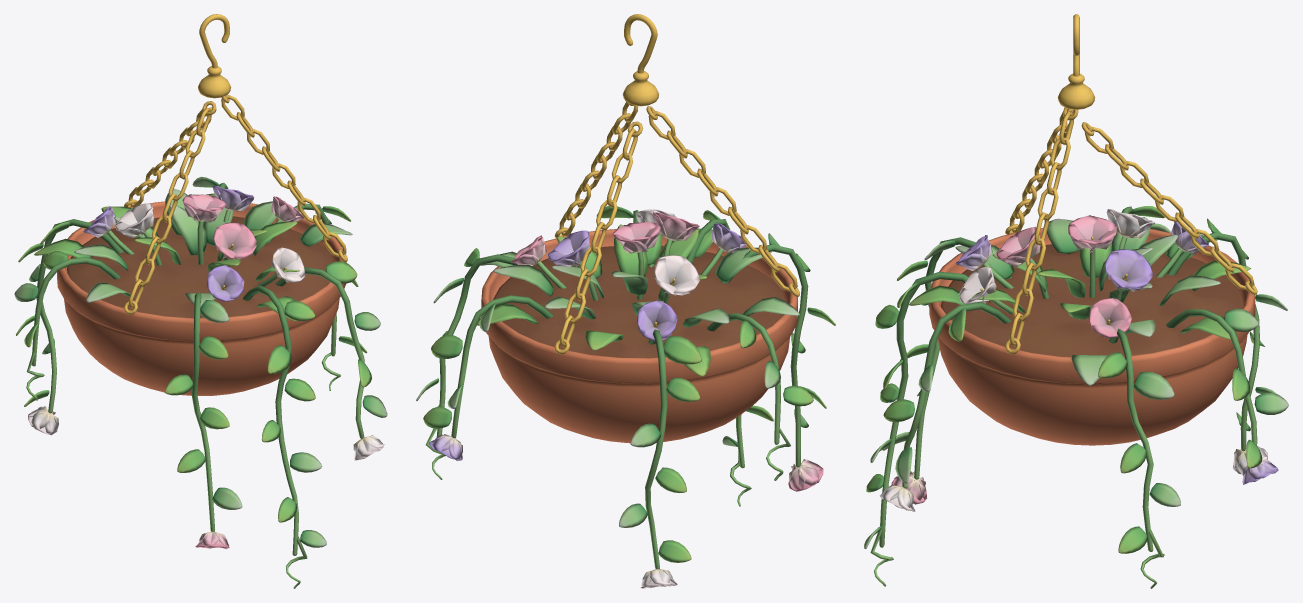
The model's file is hanging-basket.glb.
The picture shows the model from 3 angles, left to right: view 1: azimuth 30°, elevation 25°; view 2: azimuth 150°, elevation 25°; view 3: azimuth 270°, elevation 25°; orthographic projection. The views are drawn at different scales.
Visible parts, largest first — view 1: hanging-basket_body; view 2: hanging-basket_body; view 3: hanging-basket_body.
Part boxes in pixels (x1,y1,x2,y2): hanging-basket_body: [14, 14, 387, 588]; hanging-basket_body: [416, 14, 835, 588]; hanging-basket_body: [864, 14, 1288, 588].
Size of the model in its own units: 0.319 by 0.4524 by 0.3036.
Materials: 1 (1 with a texture image).
